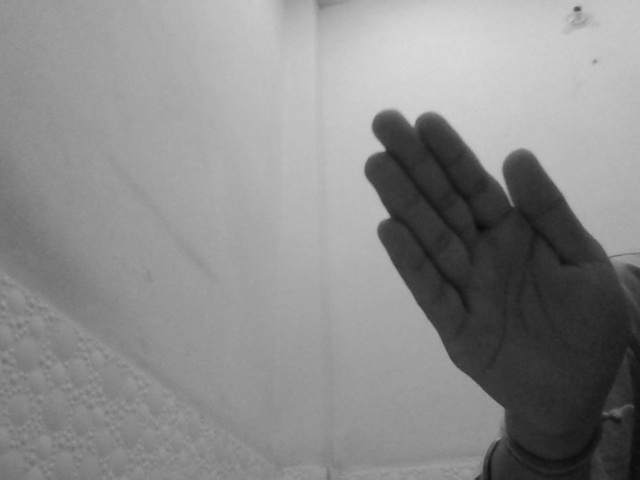Hello: (351, 104, 633, 426)
